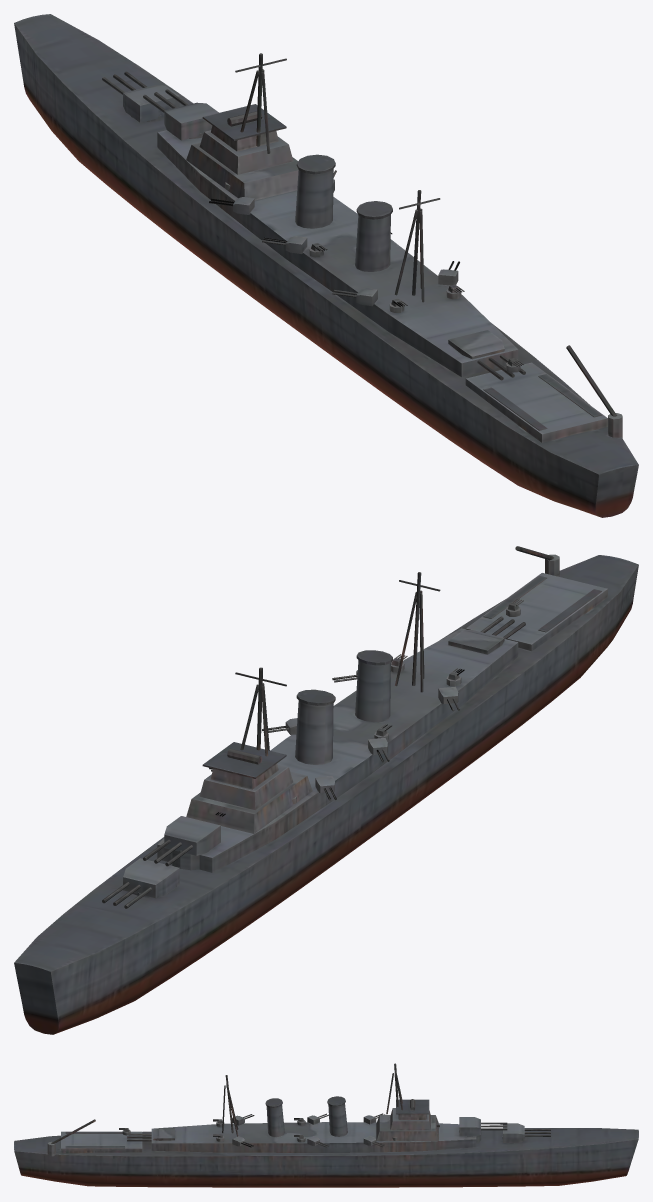
Rendered from cruiser_usn_baked.glb.
3 renders of one model, top to bottom at view 1: azimuth 30°, elevation 25°; view 2: azimuth 150°, elevation 25°; view 3: azimuth 270°, elevation 25°, orthographic. The views are drawn at different scales.
Visible parts, largest first — view 1: cruiser_usn; view 2: cruiser_usn; view 3: cruiser_usn.
Boxes of the visible parts, <box> form: cruiser_usn: <box>14,14,638,517</box>; cruiser_usn: <box>14,546,638,1034</box>; cruiser_usn: <box>14,1063,638,1187</box>.
Bounding box in the file's own units: 25.17 × 41.65 × 200.
Materials: 1 (1 with a texture image).
